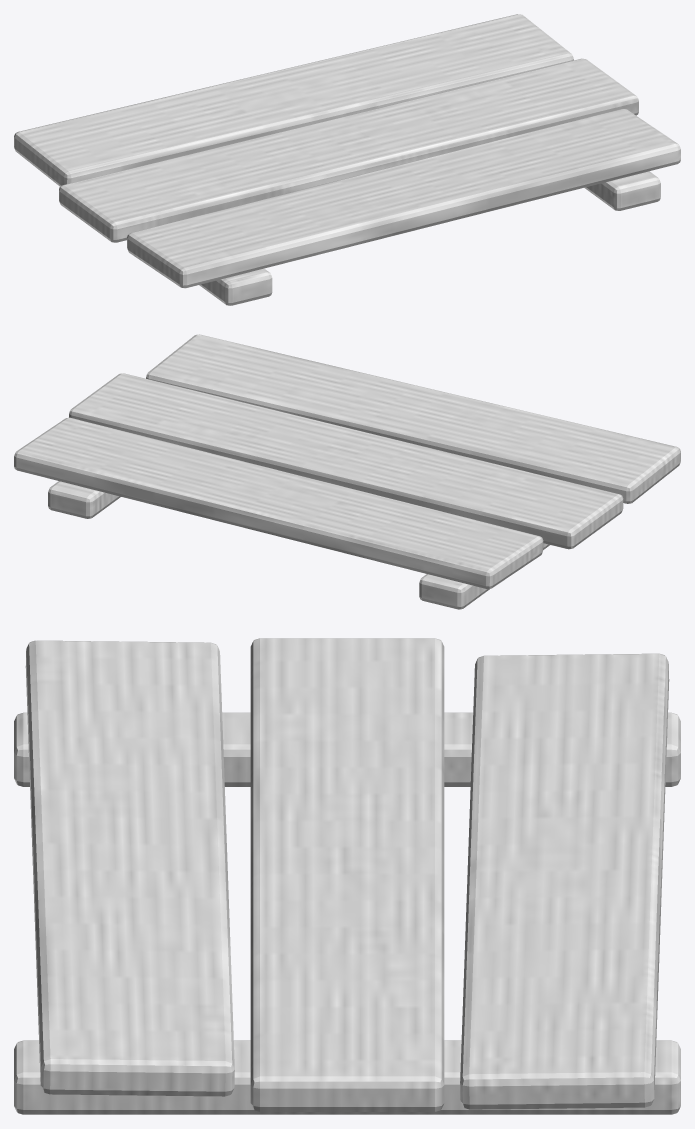
File: bridge.glb
3 views of the same model, one above another, from view 1: azimuth 30°, elevation 25°; view 2: azimuth 150°, elevation 25°; view 3: azimuth 270°, elevation 25° (orthographic). The views are drawn at different scales.
Parts seen in each view (by area): view 1: planks; view 2: planks; view 3: planks.
Boxes of the visible parts, x1,y1,x2,y2 form: planks: (14, 14, 680, 305); planks: (14, 334, 680, 609); planks: (14, 638, 680, 1114).
Size of the model in its own units: 1.36 by 0.1123 by 0.86.
1 material, 1 textured.
